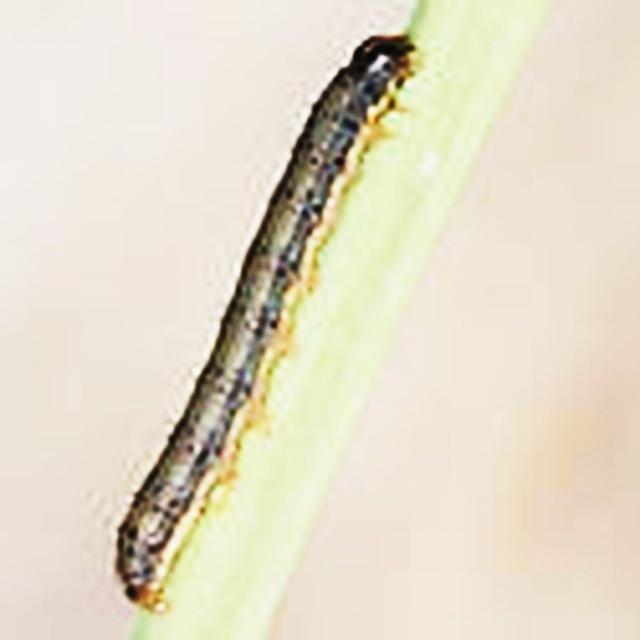Plaga: (113, 33, 420, 600)
